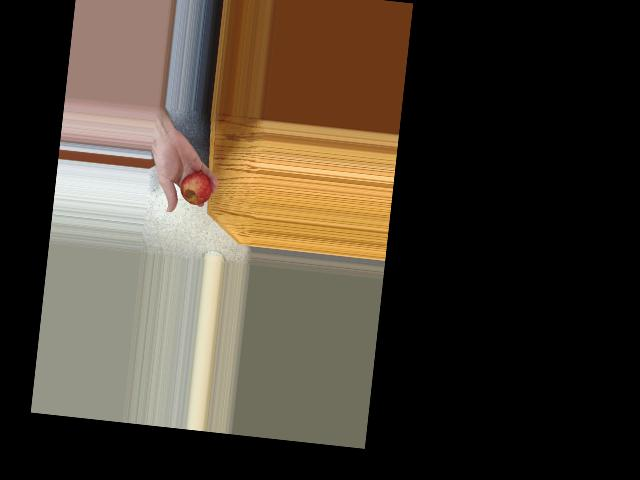apple: (178, 164, 215, 208)
